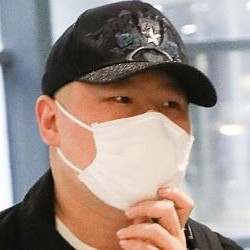mask: (41, 95, 195, 218)
